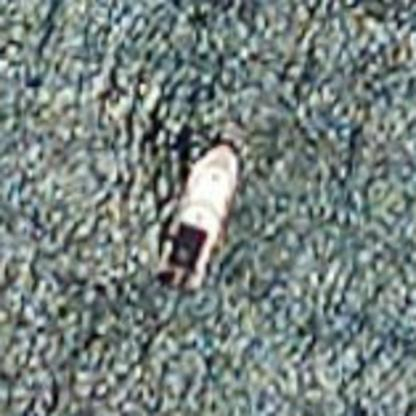ship: (147, 126, 245, 297)
